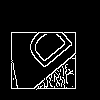D: (15, 20, 75, 77)
